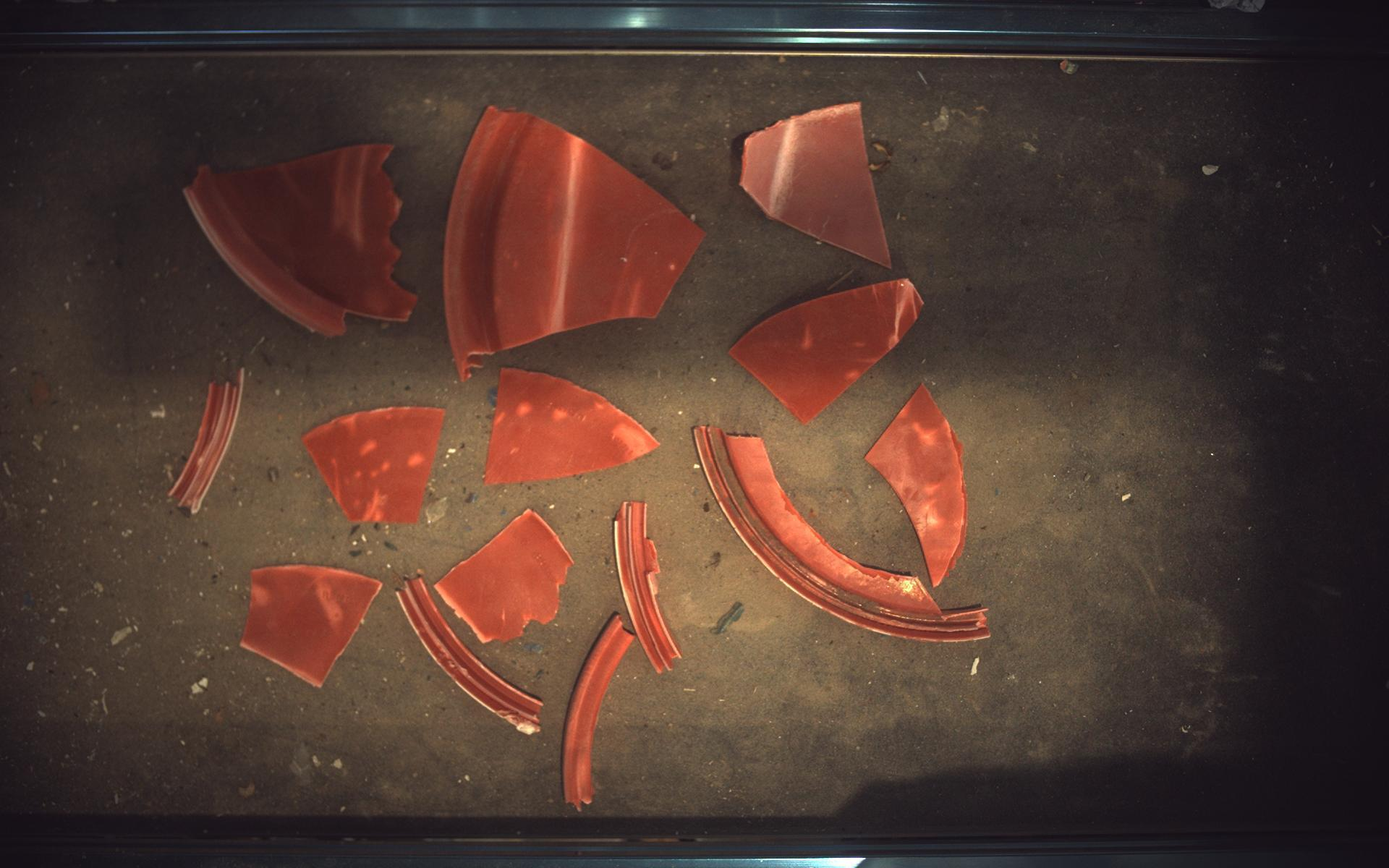plastic: (443, 105, 705, 380), (695, 425, 992, 643), (183, 143, 417, 336), (731, 278, 925, 424), (742, 101, 893, 267), (396, 576, 543, 736), (867, 384, 969, 587), (485, 368, 660, 485), (435, 509, 574, 644), (240, 566, 382, 688), (302, 407, 444, 524), (563, 614, 635, 812), (615, 502, 682, 675), (168, 367, 243, 515)
